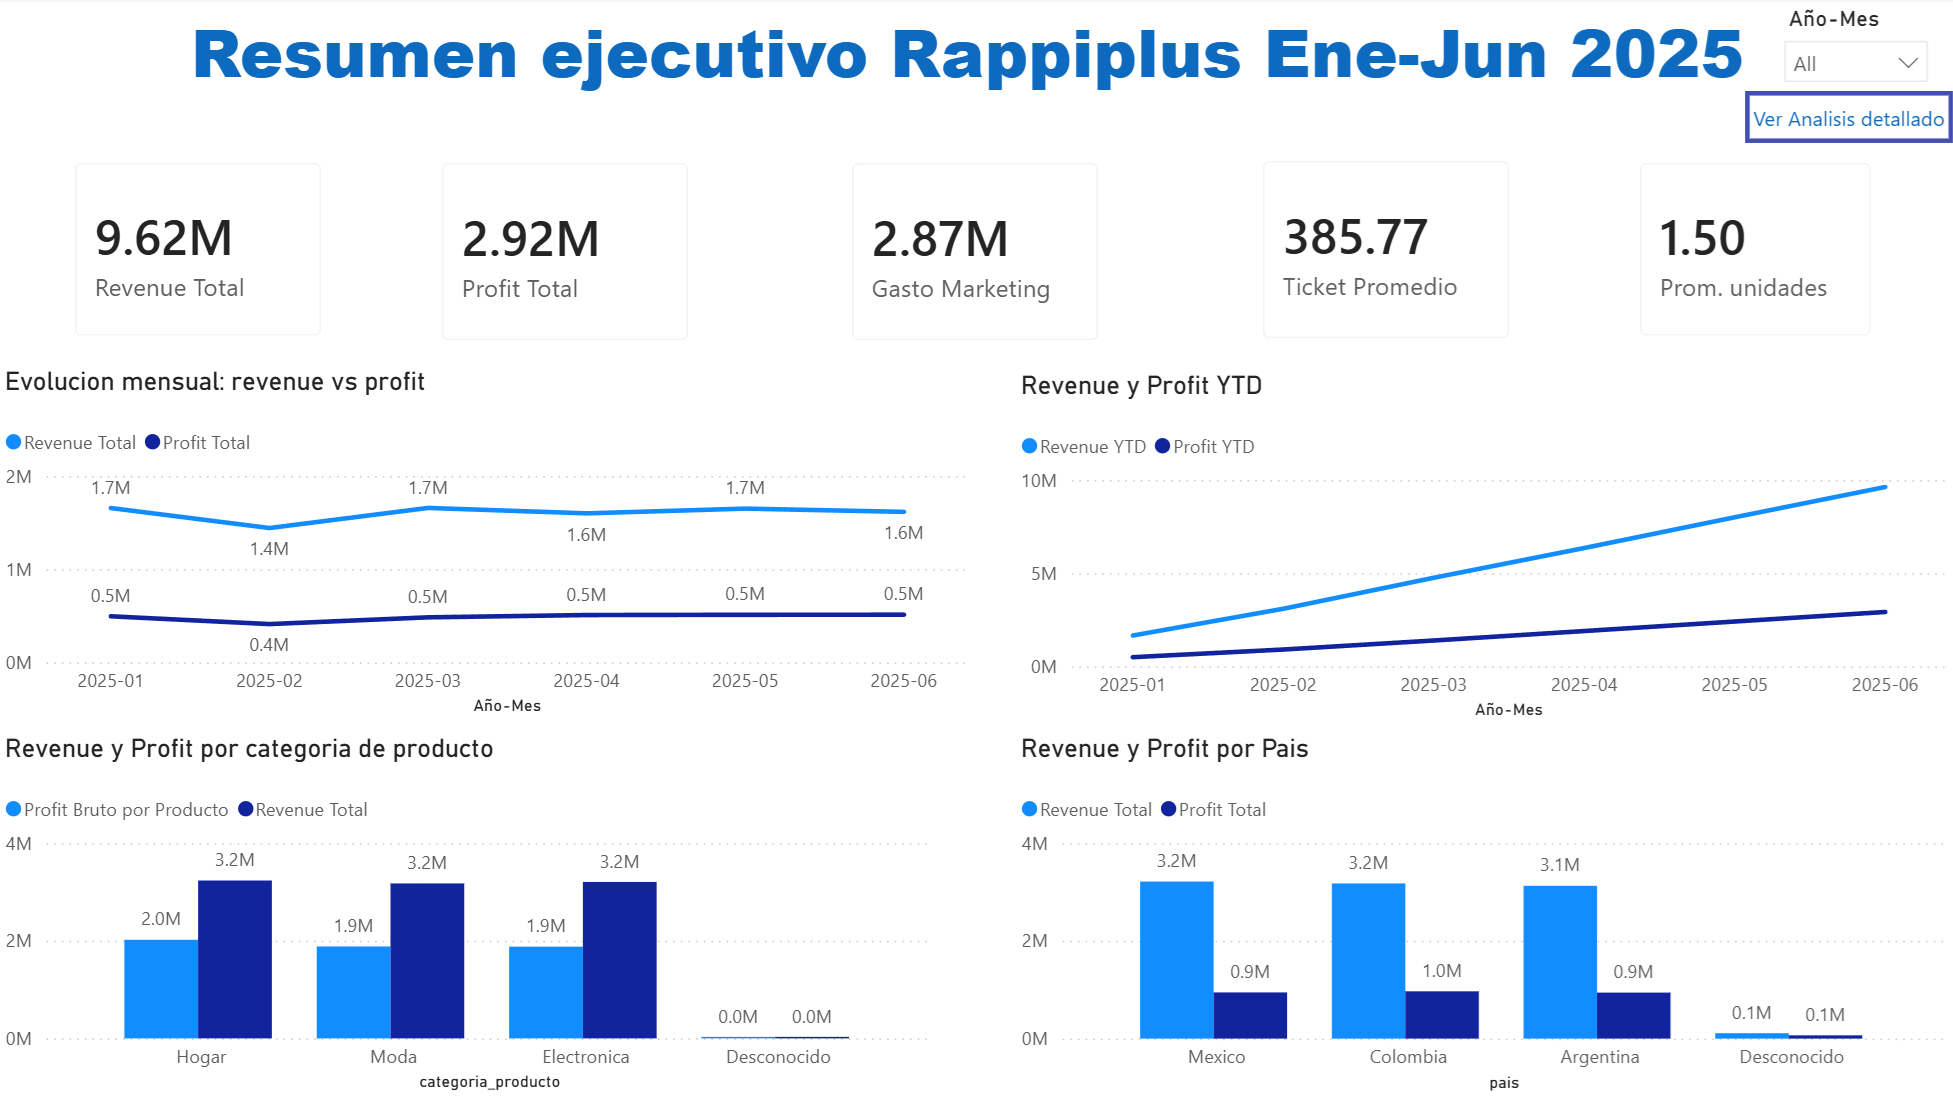

The page's visual inventory and layout, read from the dashboard file:
{"tool":"powerbi","page":{"name":"Resumen Ejecutivo","canvas":[1280,720],"ordinal":0},"visuals":[{"type":"cardVisual","fields":{"Data":["orders_clean.Revenue Total"]},"box":[34,91,195,147.2],"z":0},{"type":"textbox","box":[121.7,0,1059.5,77.9],"z":1},{"type":"cardVisual","fields":{"Data":["orders_clean.Gasto Marketing"]},"box":[542.5,91,195,150],"z":2},{"type":"cardVisual","fields":{"Data":["orders_clean.Profit Total"]},"box":[274.2,91,195,150],"z":3},{"type":"cardVisual","fields":{"Data":["orders_clean.Ticket Promedio"]},"box":[811.5,89.7,195,150],"z":4},{"type":"cardVisual","title":"Unidades / orden","fields":{"Data":["orders_clean.Cantidad Promedio por Orden"]},"box":[1058.2,91,185.2,147.2],"z":5},{"type":"lineChart","title":"Evolucion mensual: revenue vs profit","fields":{"Y":["orders_clean.Revenue Total","orders_clean.Profit Total"],"Category":["Dim_Fecha.Año-Mes"]},"box":[0,240.8,640,233],"z":6},{"type":"lineChart","title":"Revenue y Profit YTD","fields":{"Category":["Dim_Fecha.Año-Mes"],"Y":["orders_clean.Revenue YTD","orders_clean.Profit YTD"]},"box":[664.9,243.4,615.1,233],"z":7},{"type":"clusteredColumnChart","title":"Revenue y Profit por categoria de producto","fields":{"Y":["orders_clean.Profit Bruto por Producto","orders_clean.Revenue Total"],"Category":["orders_clean.categoria_producto"]},"box":[0,481,617.1,238.9],"z":8},{"type":"slicer","fields":{"Values":["Dim_Fecha.Año-Mes"]},"box":[1159.6,0,113.9,58.2],"z":9},{"type":"clusteredColumnChart","title":"Revenue y Profit por Pais","fields":{"Category":["orders_clean.pais"],"Y":["orders_clean.Revenue Total","orders_clean.Profit Total"]},"box":[665,481,615,239],"z":10},{"type":"actionButton","title":"Ver analisis detallado","box":[1143.9,60.9,136.1,34],"z":12}]}

Visuals, with their boxes in screenshot pixels (x1, y1, x2, y2), scaled from the page's 1280x720 canvas onto the 1953x1097 screenshot:
cardVisual - orders_clean.Revenue Total: bbox=[52, 139, 349, 363]
textbox: bbox=[186, 0, 1802, 119]
cardVisual - orders_clean.Gasto Marketing: bbox=[828, 139, 1125, 367]
cardVisual - orders_clean.Profit Total: bbox=[418, 139, 716, 367]
cardVisual - orders_clean.Ticket Promedio: bbox=[1238, 137, 1536, 365]
"Unidades / orden" cardVisual: bbox=[1615, 139, 1897, 363]
"Evolucion mensual: revenue vs profit" lineChart: bbox=[0, 367, 976, 722]
"Revenue y Profit YTD" lineChart: bbox=[1014, 371, 1952, 726]
"Revenue y Profit por categoria de producto" clusteredColumnChart: bbox=[0, 733, 942, 1096]
slicer - Dim_Fecha.Año-Mes: bbox=[1769, 0, 1943, 89]
"Revenue y Profit por Pais" clusteredColumnChart: bbox=[1015, 733, 1952, 1096]
"Ver analisis detallado" actionButton: bbox=[1745, 93, 1952, 145]
